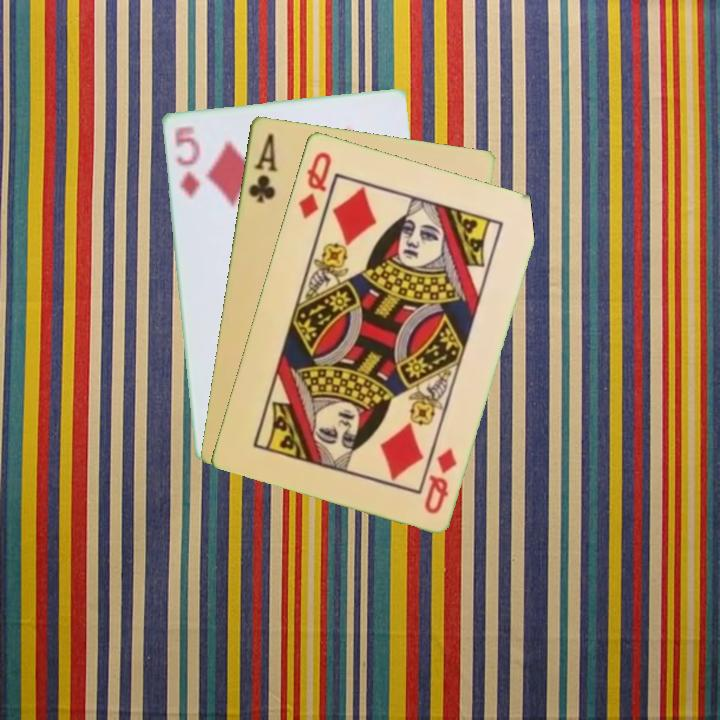5d: (170, 121, 202, 201)
Ac: (245, 129, 281, 206)
Qd: (294, 147, 334, 222), (420, 443, 460, 516)
